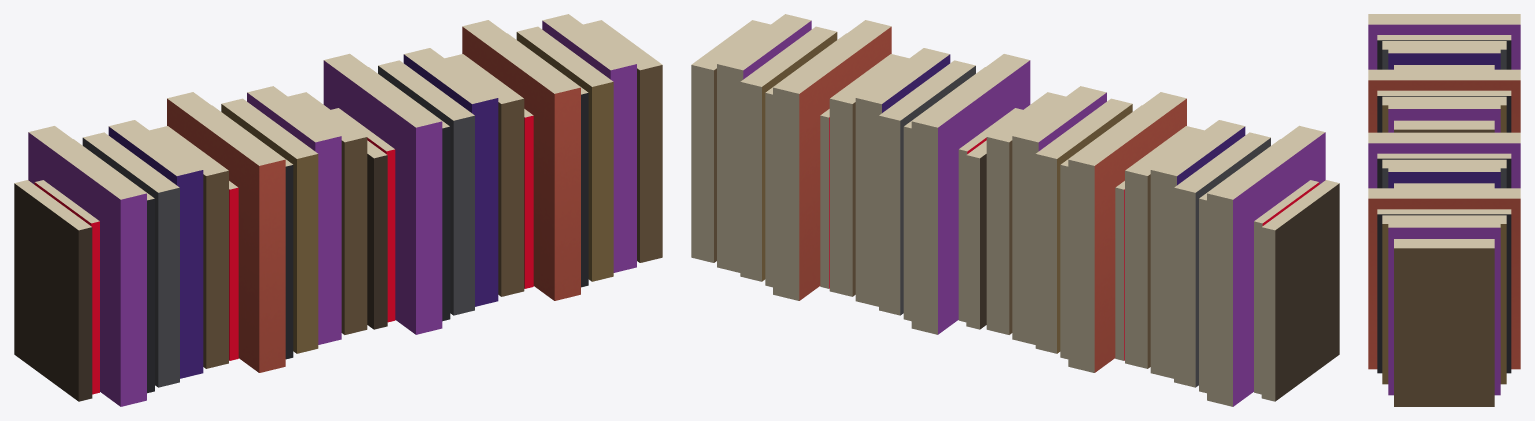
Rendered from Book_9.fbx.
The picture shows the model from 3 angles, left to right: view 1: azimuth 30°, elevation 25°; view 2: azimuth 150°, elevation 25°; view 3: azimuth 270°, elevation 25°; orthographic projection. The views are drawn at different scales.
Parts seen in each view (by area): view 1: pCube2434; view 2: pCube2434; view 3: pCube2434.
Boxes of the visible parts, box(x1,y1,x2,y2) form: pCube2434: box(14, 14, 662, 406); pCube2434: box(691, 14, 1339, 406); pCube2434: box(1368, 14, 1520, 406).
Size of the model in its own units: 108 by 36.61 by 29.58.
